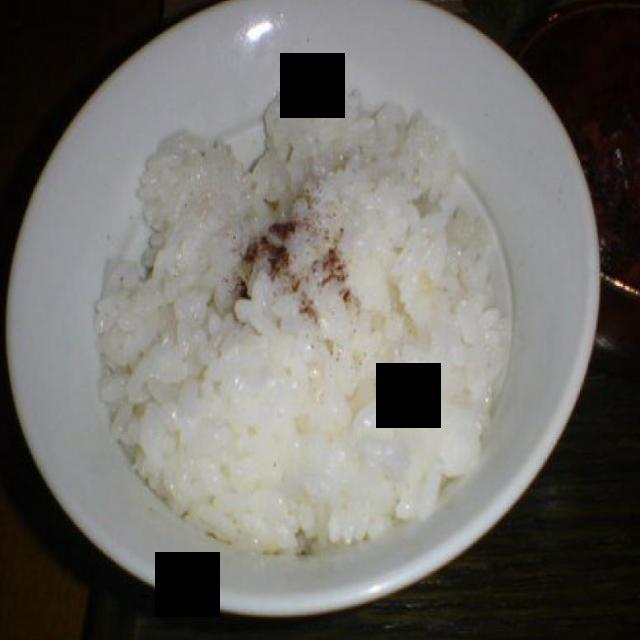rice: (94, 60, 515, 556)
